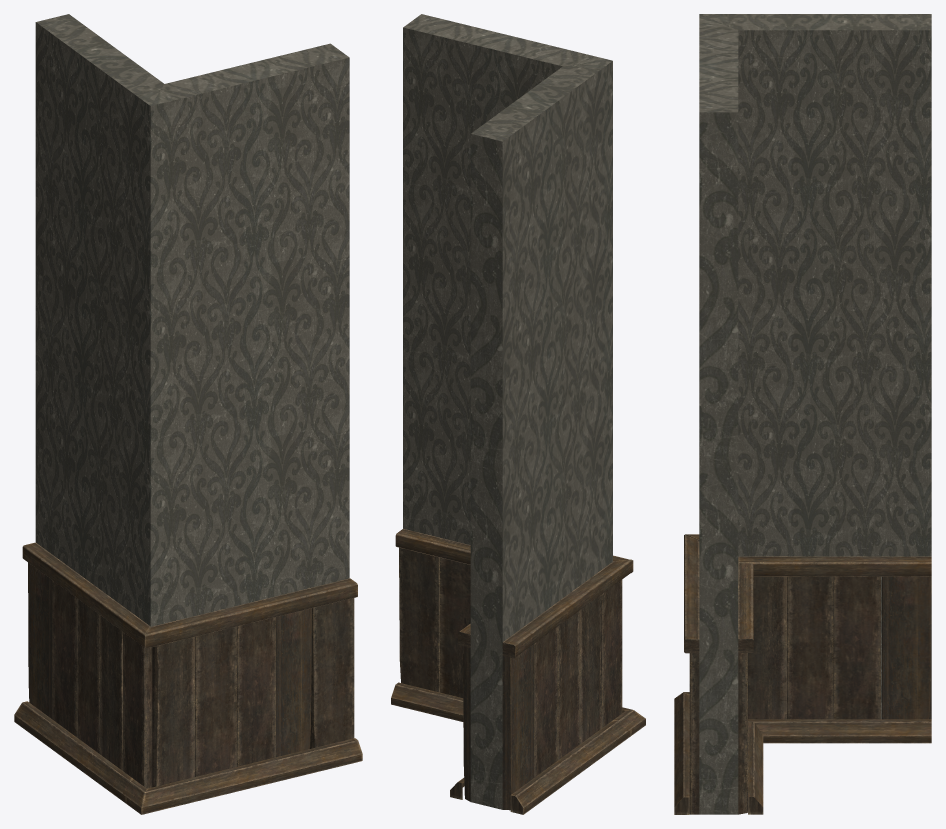
The model's file is SM_Wall_1m_Corn_2_Side.fbx.
The picture shows the model from 3 angles, left to right: view 1: azimuth 30°, elevation 25°; view 2: azimuth 150°, elevation 25°; view 3: azimuth 270°, elevation 25°; orthographic projection. The views are drawn at different scales.
Parts seen in each view (by area): view 1: SM_Wall_1m_Corn_2_Side, SM_Wall_2m_Corn_IN.003; view 2: SM_Wall_1m_Corn_2_Side, SM_Wall_2m_Corn_IN.003, SM_Wall_1m_Corn_Plinth.003; view 3: SM_Wall_1m_Corn_2_Side, SM_Wall_1m_Corn_Plinth.003, SM_Wall_2m_Corn_IN.003.
Part boxes in pixels (box(x1,y1,x2,y2)): SM_Wall_1m_Corn_2_Side: box(35, 14, 349, 626); SM_Wall_2m_Corn_IN.003: box(14, 542, 362, 814); SM_Wall_1m_Corn_2_Side: box(403, 14, 612, 809); SM_Wall_2m_Corn_IN.003: box(502, 555, 645, 814); SM_Wall_1m_Corn_Plinth.003: box(391, 528, 470, 801); SM_Wall_1m_Corn_2_Side: box(699, 14, 931, 814); SM_Wall_1m_Corn_Plinth.003: box(738, 556, 931, 814); SM_Wall_2m_Corn_IN.003: box(674, 534, 699, 814).
Bounding box in the file's own units: 1.33 × 4 × 1.33.
